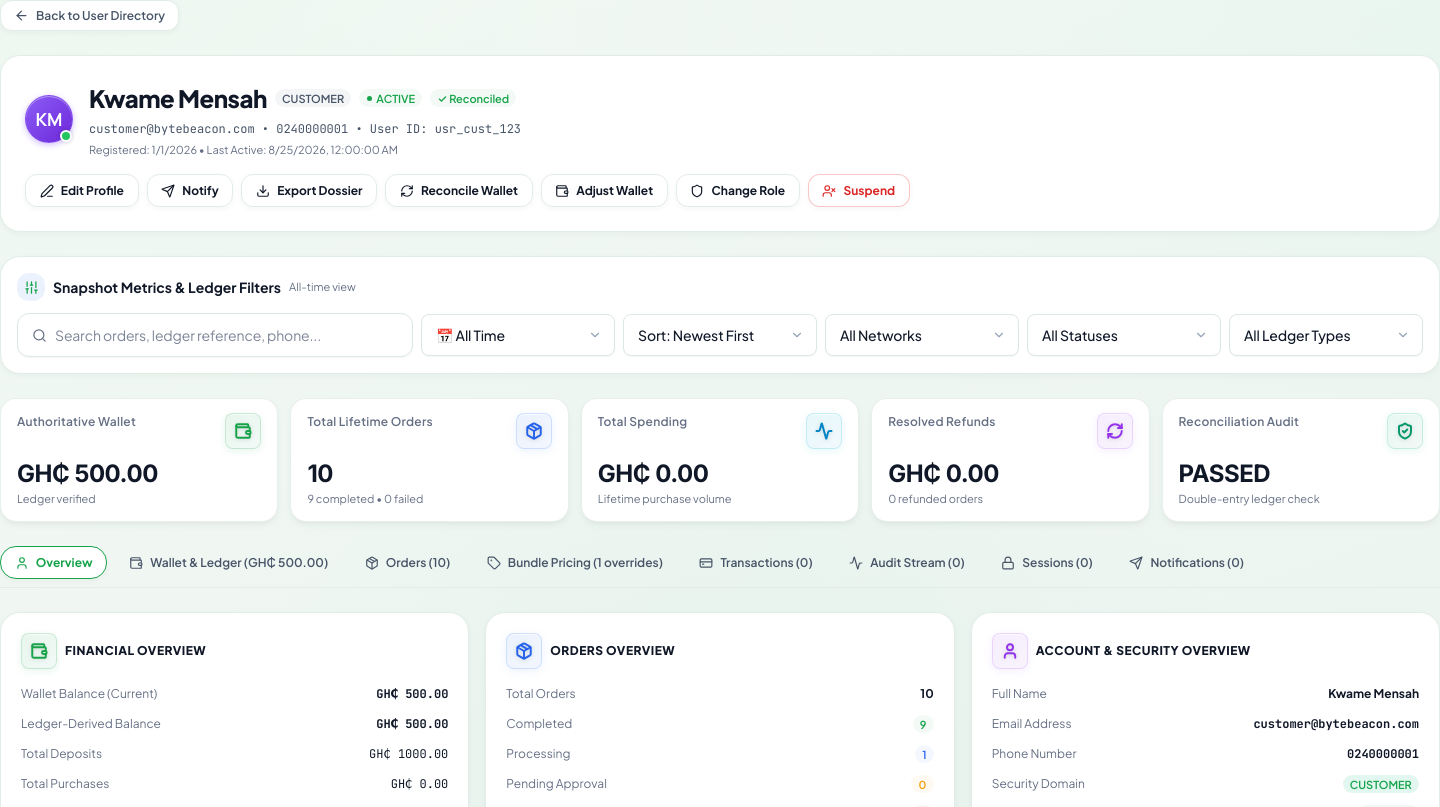
Test: AdminUserDetailPage — Custom Data Bundle Pricing & Wallet Adjustments › 2. switches to Bundle Pricing tab and loads custom pricing table
Expected: the heading "Kwame Mensah" is shown, [89,80,267,116]
Click the button "Bundle Pricing (1 overrides)" at (575, 563), box [472,546,678,579]
(page scrolled)
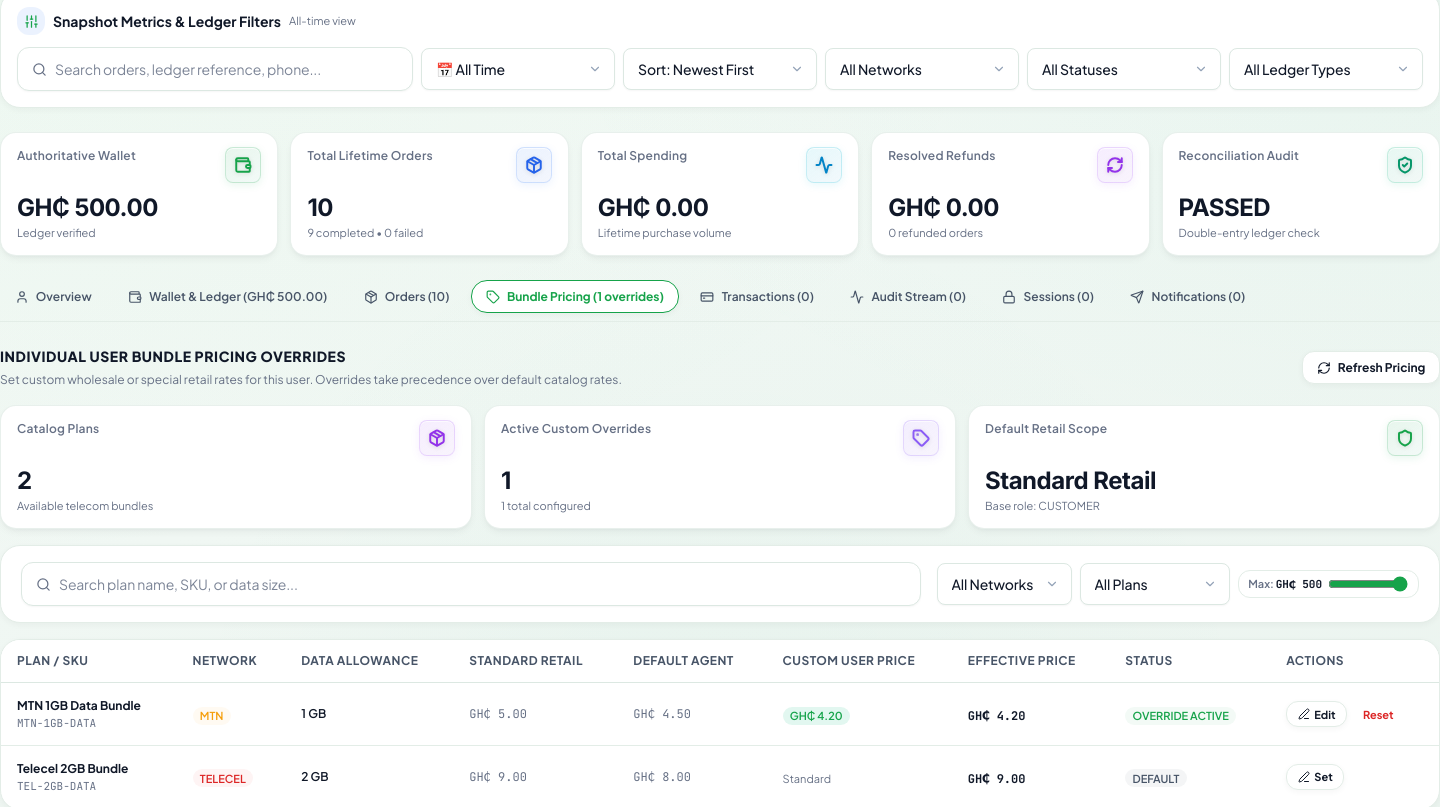
Now the heading "Individual User Bundle Pricing Overrides" is shown, box [0,347,346,365]
Now the text "MTN 1GB Data Bundle" is shown, box [17,697,161,715]
Now the text "Telecel 2GB Bundle" is shown, box [17,760,128,776]
